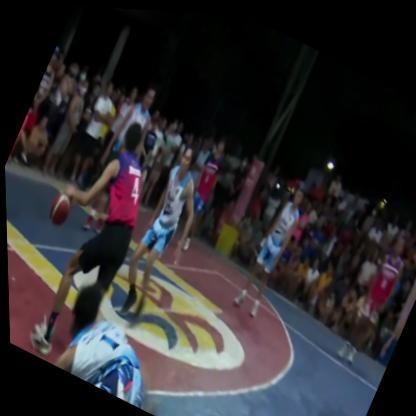basketball: (35, 181, 80, 239)
